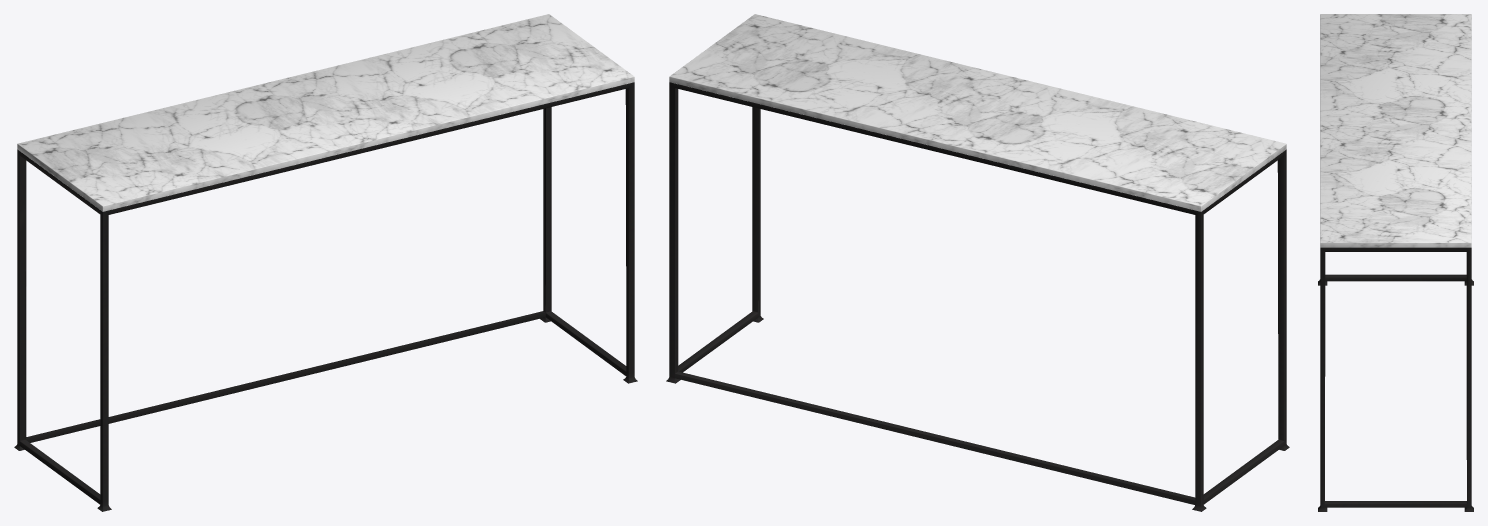
The model's file is steel_frame_console.gltf.
3 views of the same model, side by side, from view 1: azimuth 30°, elevation 25°; view 2: azimuth 150°, elevation 25°; view 3: azimuth 270°, elevation 25° (orthographic). The views are drawn at different scales.
Visible parts, largest first — view 1: console table; view 2: console table; view 3: console table.
Part boxes in pixels (box(x1,y1,x2,y2)): console table: box(14, 14, 637, 511); console table: box(666, 14, 1289, 511); console table: box(1318, 14, 1473, 511).
Size of the model in its own units: 1.4 by 0.76 by 0.4.
1 material, 1 textured.
